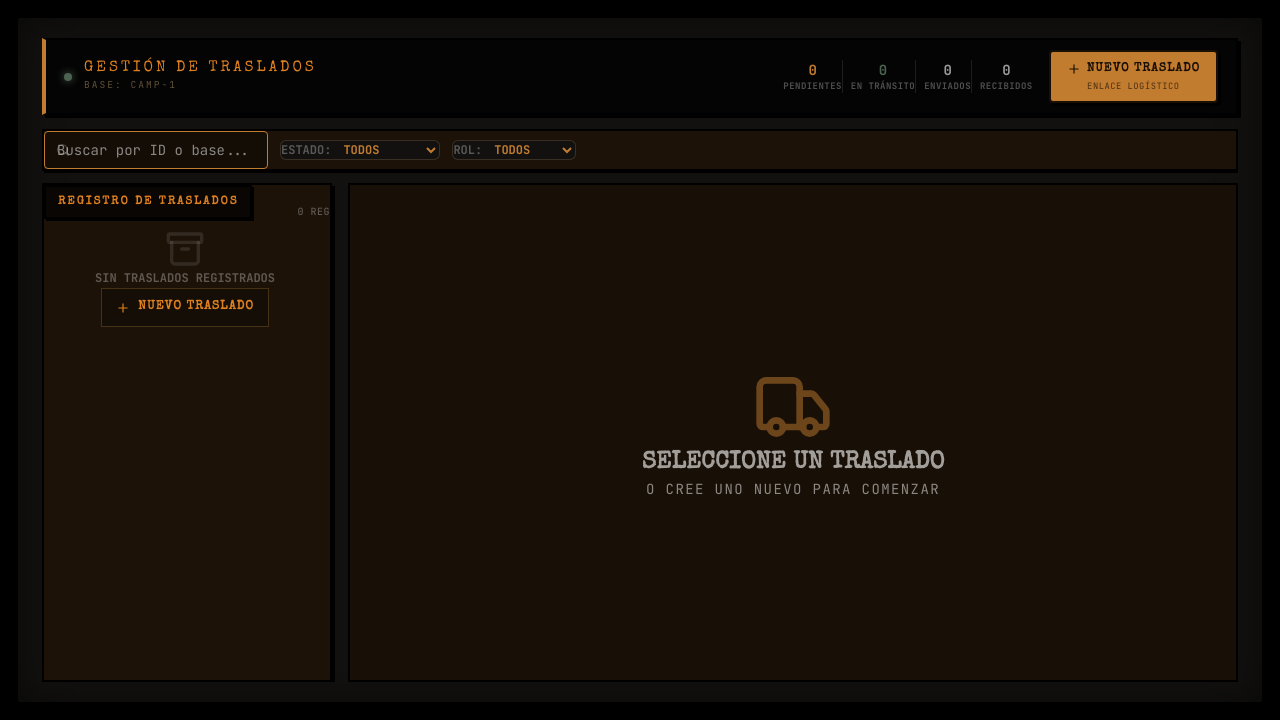
Scenario: TravelTransfers › shows an empty state and opens the modal from it
Expected: the text "Sin traslados registrados" is shown, [95,269,275,288]
Click the button "Nuevo Traslado": {"x": 185, "y": 308} [101,288,269,327]
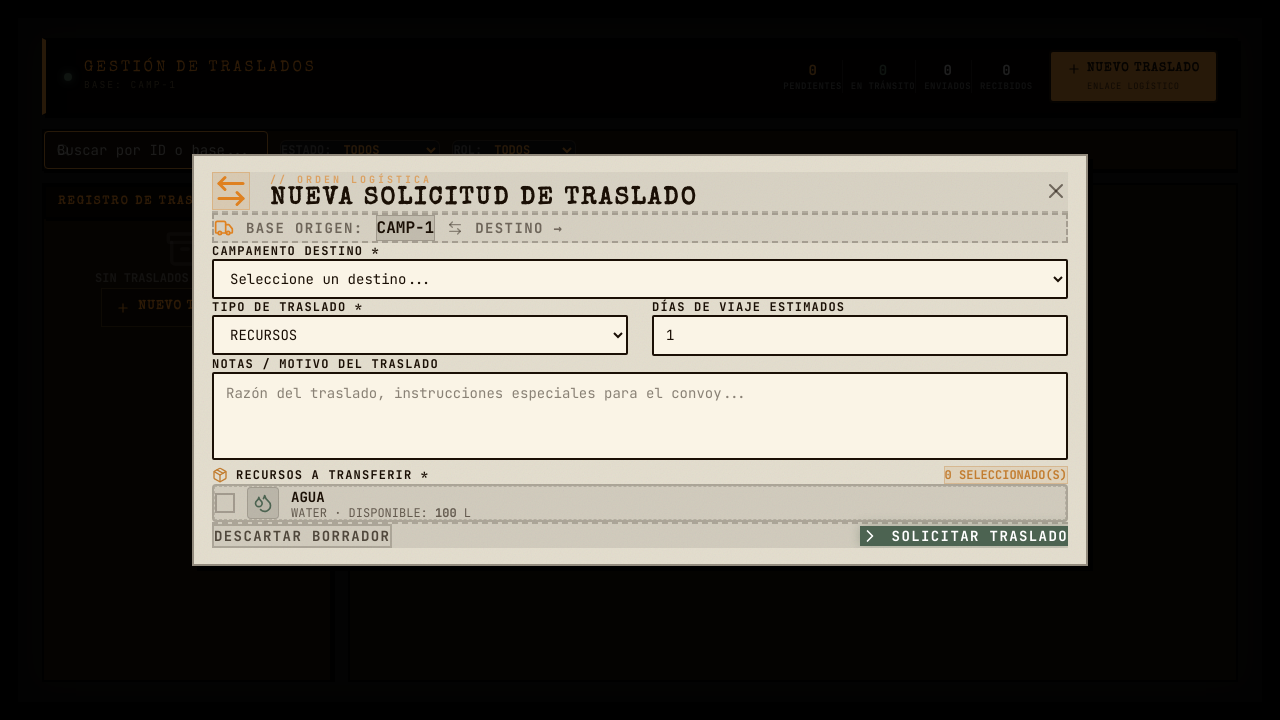
Expected: the heading "Nueva Solicitud de Traslado" is shown, [270,187,698,211]
